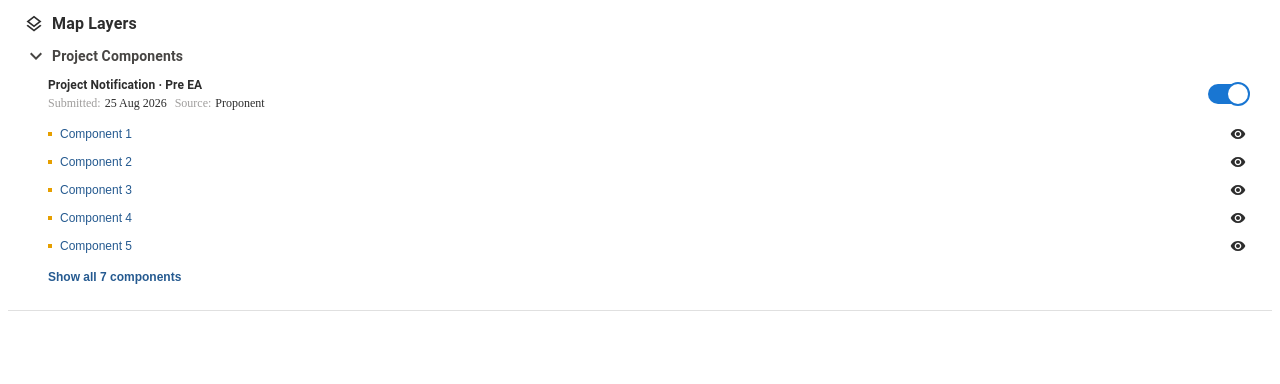
Scenario: a long submission › shows all, then fewer
What coordinates should you click on to do the following:
click the button "Show all 7 components"
I would click on:
 (115, 277)
Its box is [48,268,181,286].
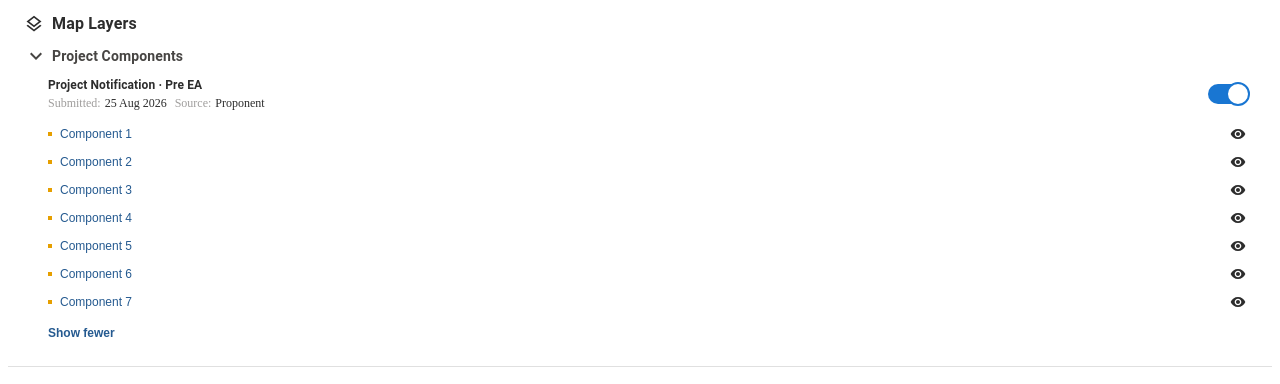
Check: the text "Component 7" is shown, box [60,295,132,309]
What coordinates should you click on to do the following:
click the button "Show fewer"
I would click on:
 (81, 333)
Its box is [48,324,115,342].
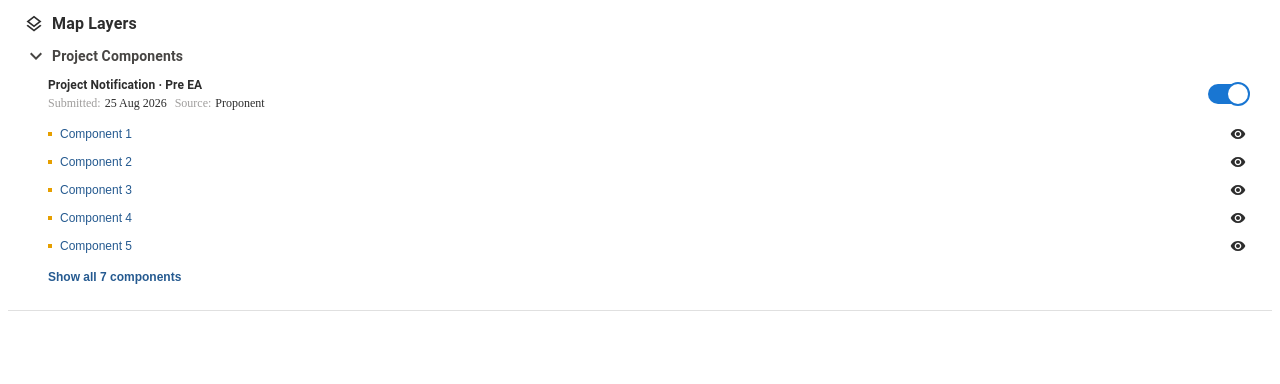
Check: the button "Component 7" is gone
